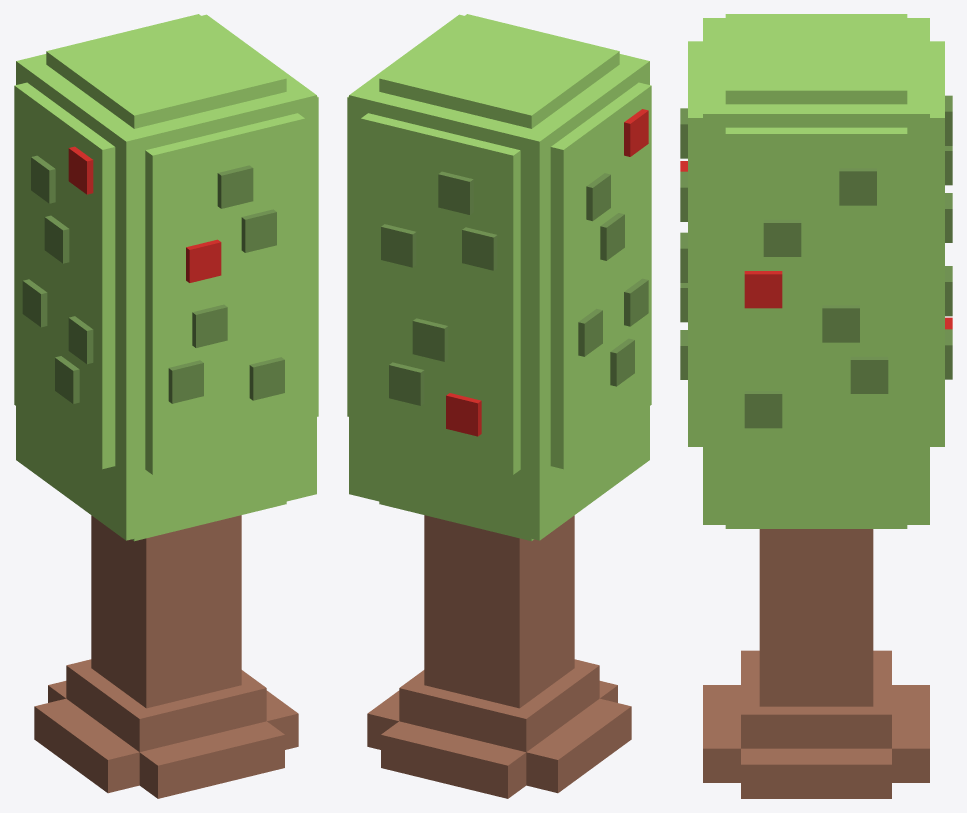
The model's file is Tree.fbx.
The picture shows the model from 3 angles, left to right: view 1: azimuth 30°, elevation 25°; view 2: azimuth 150°, elevation 25°; view 3: azimuth 270°, elevation 25°; orthographic projection. The views are drawn at different scales.
Visible parts, largest first — view 1: Cube.003, Cube.002, Cube.001, Cube, Cube.008, Cube.004, Cube.010, Cube.005, Cube.006, Cube.009, Cube.011, Cube.012 (+1 smaller); view 2: Cube.003, Cube.002, Cube.001, Cube, Cube.008, Cube.014, Cube.015, Cube.006, Cube.005, Cube.013, Cube.016, Cube.012 (+1 smaller); view 3: Cube.003, Cube.002, Cube, Cube.001, Cube.008, Cube.018, Cube.017, Cube.019, Cube.020, Cube.021, Cube.004, Cube.014 (+2 smaller).
Boxes of the visible parts, x1,y1,x2,y2 form: Cube.003: [14, 82, 318, 474]; Cube.002: [16, 14, 316, 540]; Cube.001: [91, 515, 241, 708]; Cube: [34, 659, 298, 798]; Cube.008: [46, 14, 286, 541]; Cube.004: [217, 165, 276, 252]; Cube.010: [168, 304, 227, 403]; Cube.005: [31, 155, 69, 263]; Cube.006: [55, 316, 93, 403]; Cube.009: [186, 239, 221, 282]; Cube.011: [249, 357, 284, 400]; Cube.012: [22, 279, 47, 327]; Cube.003: [347, 82, 651, 474]; Cube.002: [349, 14, 649, 540]; Cube.001: [424, 515, 574, 708]; Cube: [367, 659, 631, 798]; Cube.008: [379, 14, 619, 541]; Cube.014: [389, 318, 448, 405]; Cube.015: [438, 171, 497, 270]; Cube.006: [610, 278, 648, 386]; Cube.005: [586, 173, 624, 260]; Cube.013: [446, 393, 481, 436]; Cube.016: [381, 224, 416, 267]; Cube.012: [578, 308, 602, 356]; Cube.003: [688, 41, 944, 462]; Cube.002: [703, 18, 929, 524]; Cube: [703, 650, 929, 798]; Cube.001: [759, 529, 873, 706]; Cube.008: [725, 14, 907, 528]; Cube.018: [822, 305, 888, 393]; Cube.017: [744, 271, 782, 308]; Cube.019: [744, 391, 782, 428]; Cube.020: [763, 219, 801, 256]; Cube.021: [839, 168, 876, 205]; Cube.004: [680, 108, 687, 221]; Cube.014: [945, 266, 952, 379].
Size of the model in its own units: 110 by 311 by 110.
